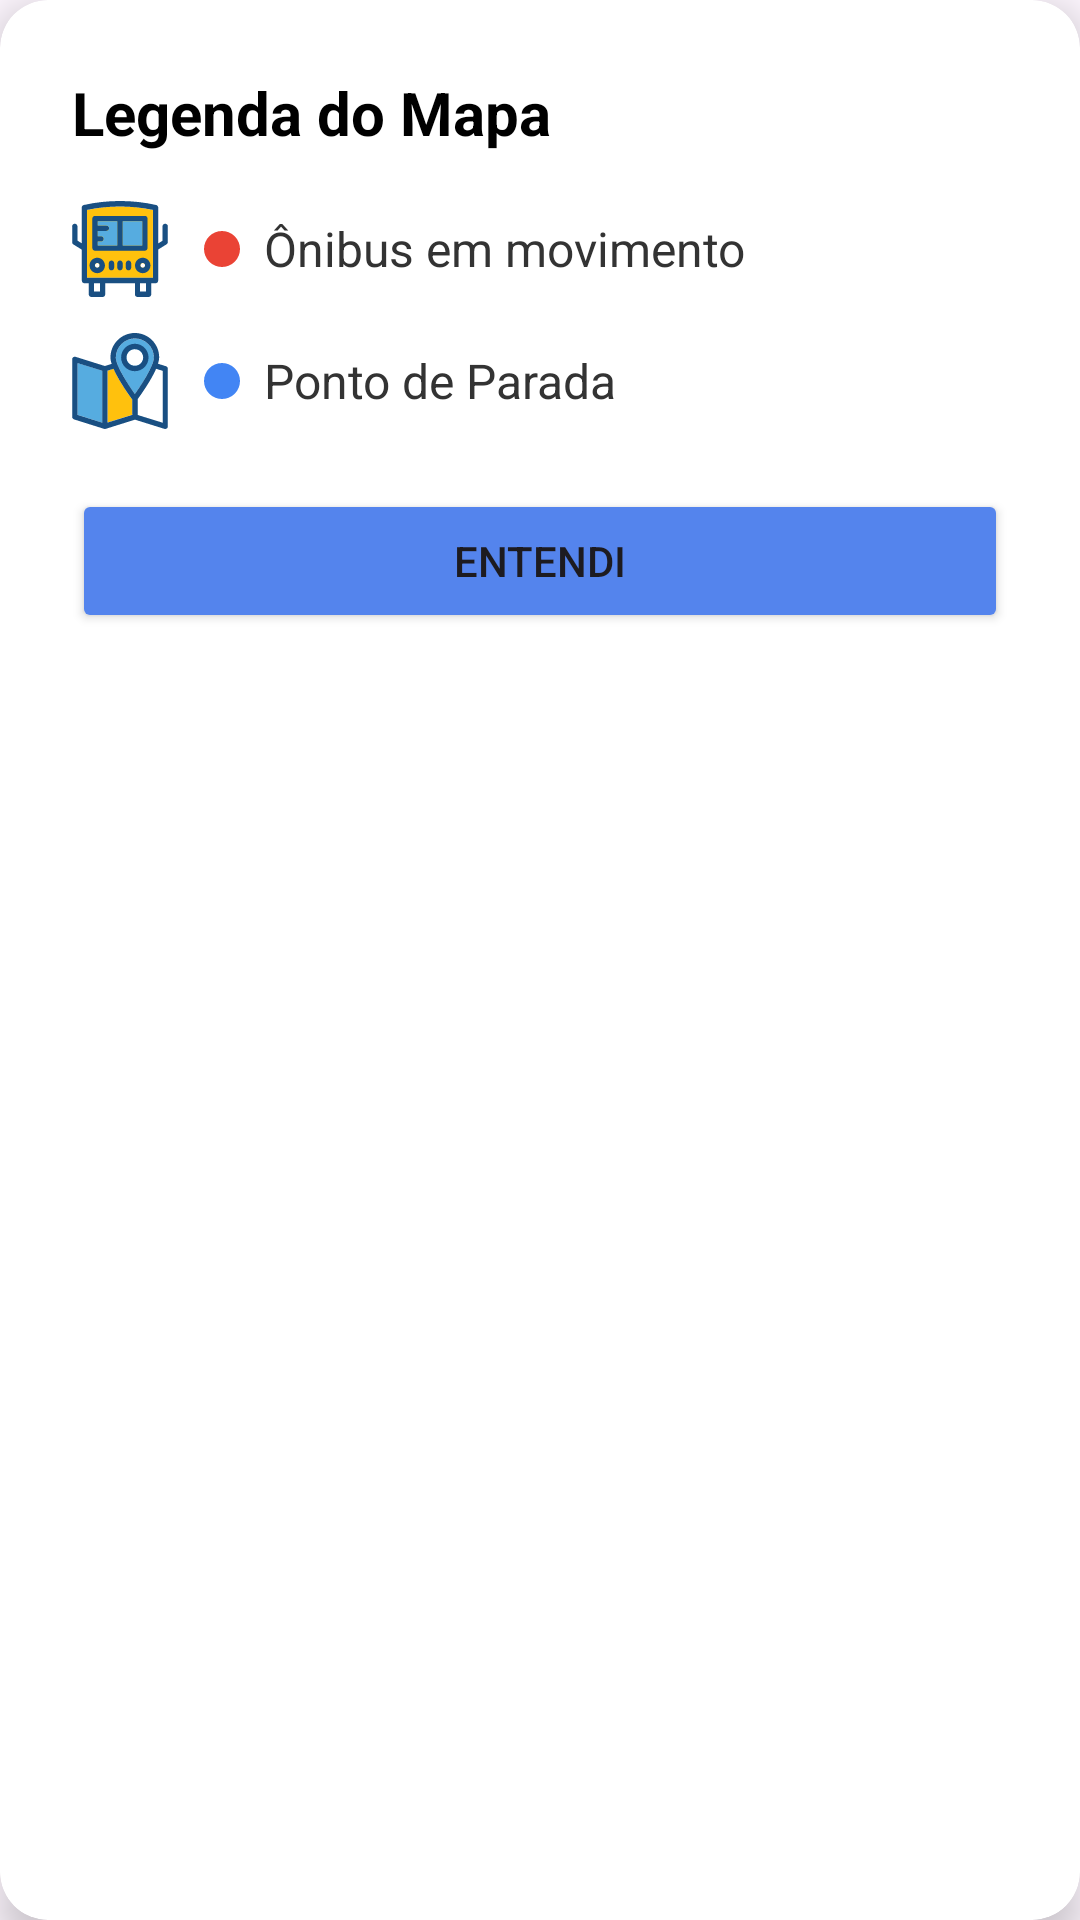

Icons on this 1080x1920 Android screen, each with its box as [x1, y1, x2, y2]:
bus icon: [72, 201, 168, 297]
stop icon: [72, 333, 168, 429]
